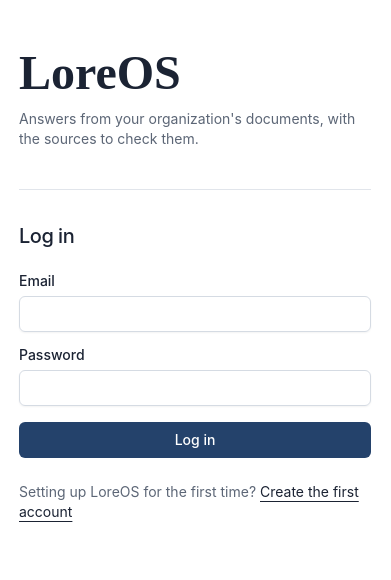
Test: login shows how long to wait after a 429
The image size is (391, 580).
Step 1. Type "ada@example.com" into the field labelled "Email" → x=195, y=314, box [19,296,371,332]
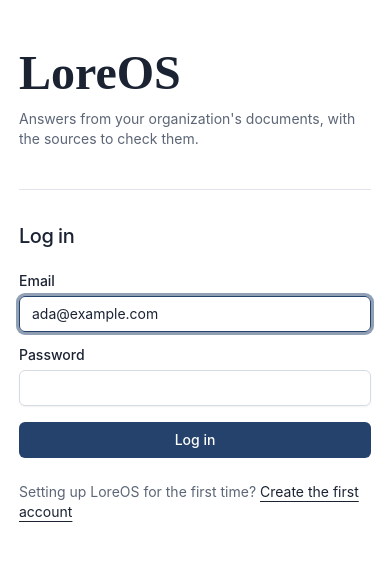
Step 2. Type "correct horse battery" into the password field labelled "Password" → x=195, y=388, box [19,370,371,406]
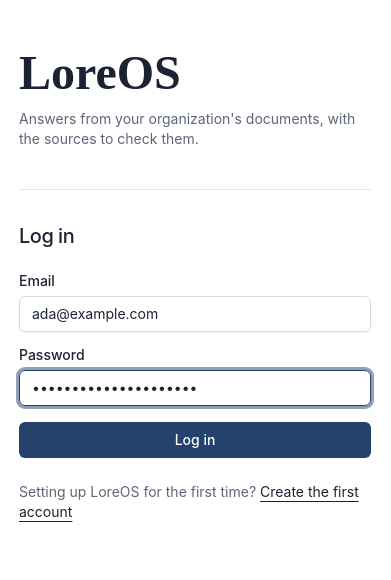
Step 3. Click the button "Log in" → x=195, y=440, box [19,422,371,458]
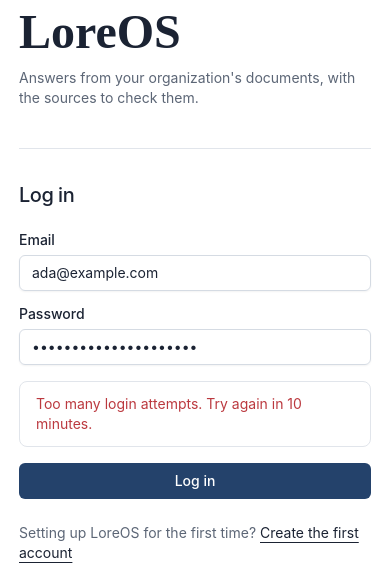
Result: the message shows "Try again in 10 minutes" at [36,394,302,432]
